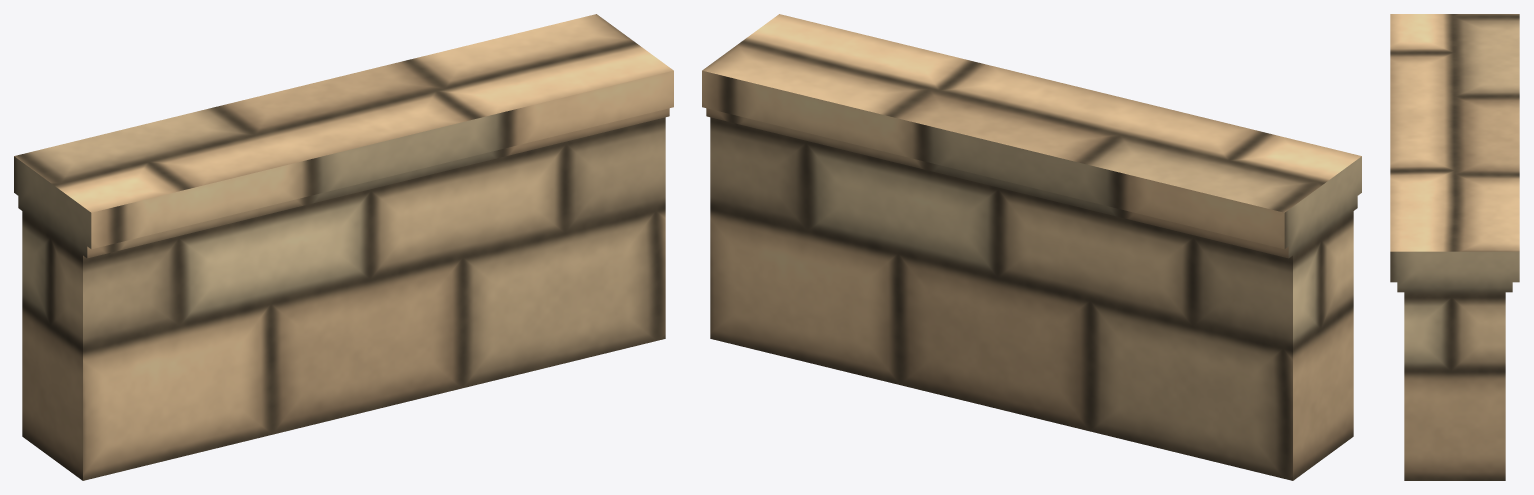
File: wall_low_2m.glb
The picture shows the model from 3 angles, left to right: view 1: azimuth 30°, elevation 25°; view 2: azimuth 150°, elevation 25°; view 3: azimuth 270°, elevation 25°; orthographic projection. The views are drawn at different scales.
Visible parts, largest first — view 1: wall_low_2m; view 2: wall_low_2m; view 3: wall_low_2m.
Part boxes in pixels (x1,y1,x2,y2): wall_low_2m: (14,14,673,480); wall_low_2m: (702,14,1361,480); wall_low_2m: (1390,14,1519,480).
Bounding box in the file's own units: 2 × 0.9 × 0.46.
Materials: 1 (1 with a texture image).
